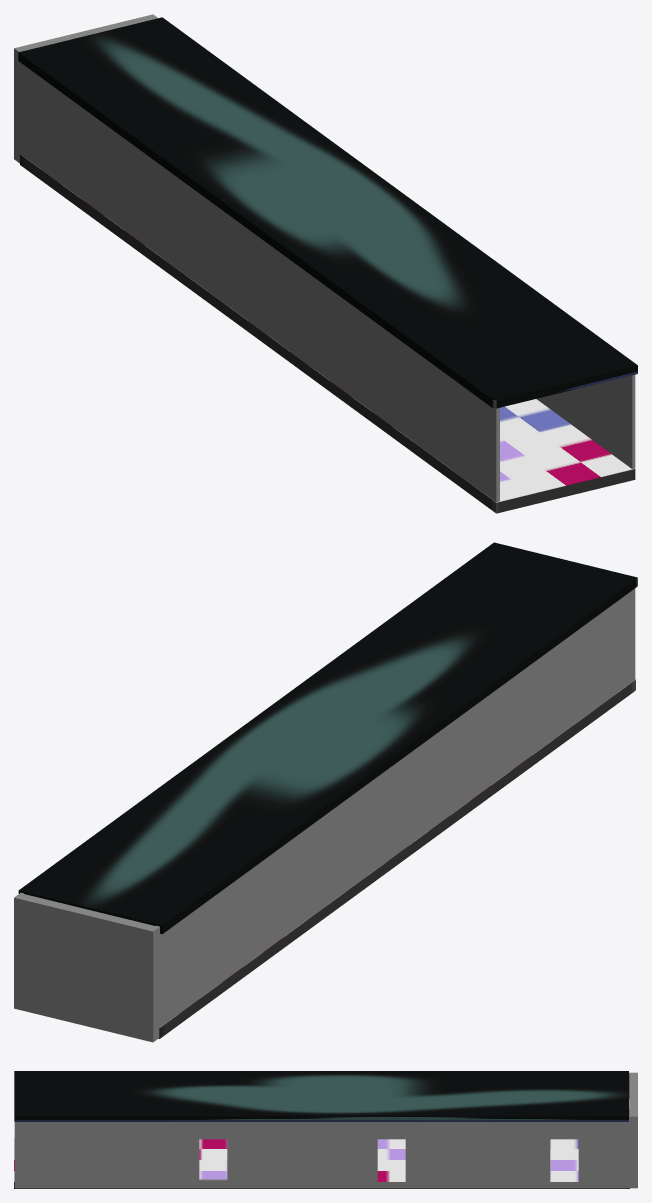
Rendered from uncoverhallway.gltf.
The picture shows the model from 3 angles, top to bottom: view 1: azimuth 30°, elevation 25°; view 2: azimuth 150°, elevation 25°; view 3: azimuth 270°, elevation 25°; orthographic projection. The views are drawn at different scales.
Visible parts, largest first — view 1: ceiling, Cube, floor; view 2: ceiling, Cube, floor; view 3: Cube, ceiling, floor.
Boxes of the visible parts, left/top/right/bottom form: ceiling: left=18, top=17, right=637, bottom=408; Cube: left=14, top=14, right=635, bottom=502; floor: left=20, top=154, right=635, bottom=513; ceiling: left=18, top=542, right=637, bottom=934; Cube: left=14, top=588, right=635, bottom=1042; floor: left=158, top=679, right=635, bottom=1038; Cube: left=14, top=1072, right=637, bottom=1188; ceiling: left=14, top=1071, right=628, bottom=1121; floor: left=14, top=1138, right=629, bottom=1188.
Bounding box in the file's own units: 6.4 × 4.83 × 37.19.
9 materials, 8 textured.
